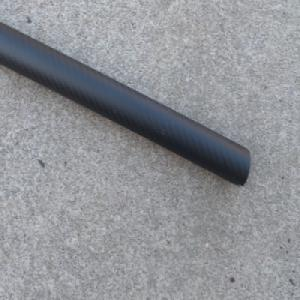LuggagePart: (0, 18, 251, 188)
